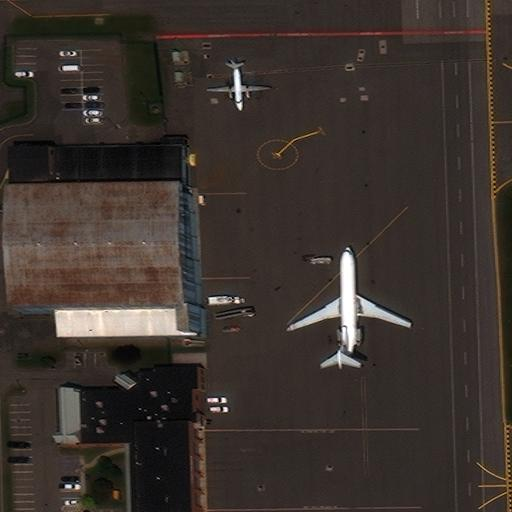Medium Civil Transport: (288, 246, 411, 370), (206, 59, 270, 110)
